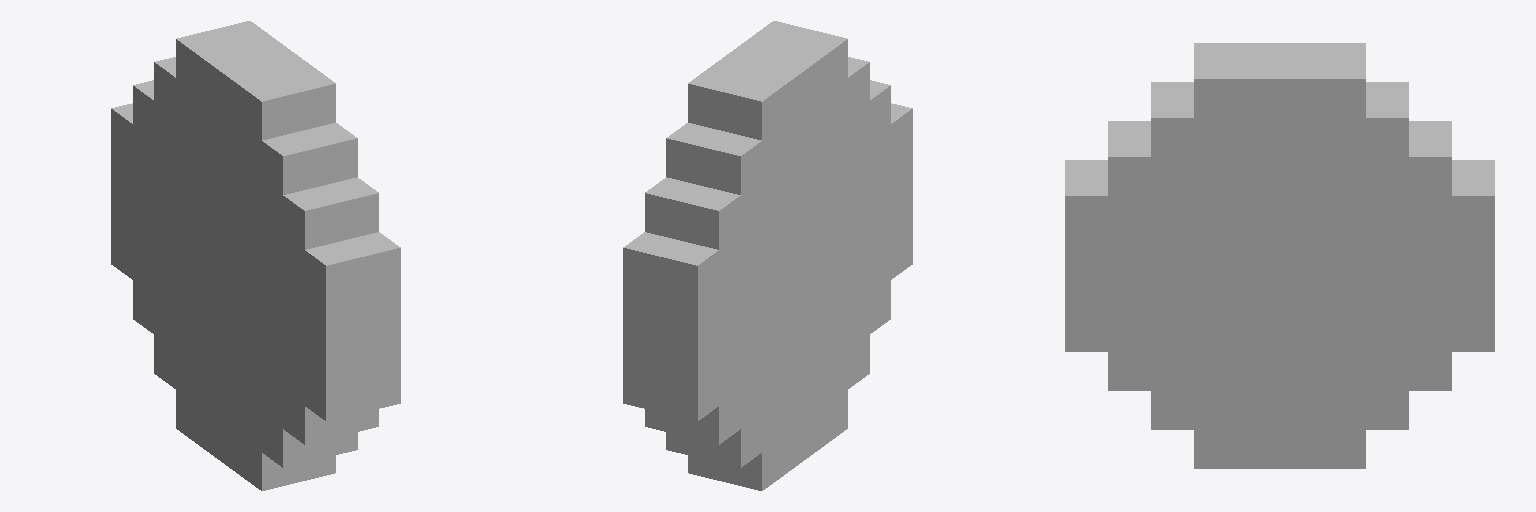
The model's file is big_wheel.obj.
3 views of the same model, side by side, from view 1: azimuth 30°, elevation 25°; view 2: azimuth 150°, elevation 25°; view 3: azimuth 270°, elevation 25° (orthographic).
Visible parts, largest first — view 1: Plane.005; view 2: Plane.005; view 3: Plane.005.
Part boxes in pixels (left/top/right/bottom): Plane.005: left=111, top=21, right=400, bottom=490; Plane.005: left=623, top=21, right=912, bottom=490; Plane.005: left=1065, top=43, right=1494, bottom=468.
Bounding box in the file's own units: 0.125 × 0.625 × 0.625.